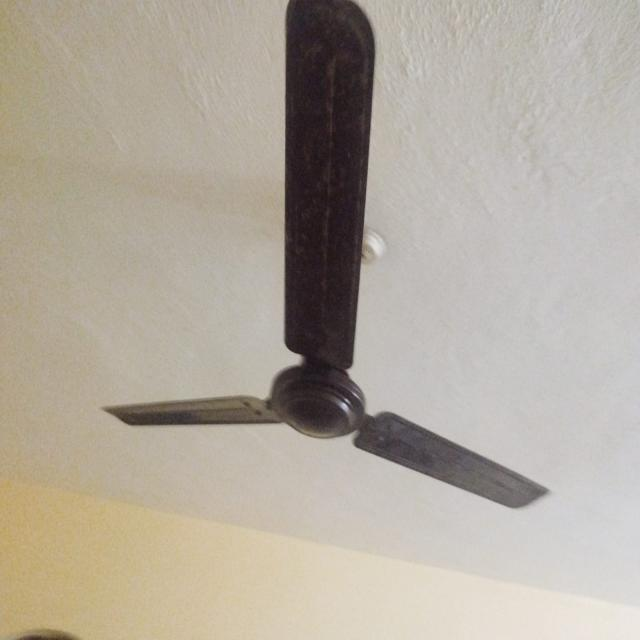fan_off: (102, 0, 553, 512)
